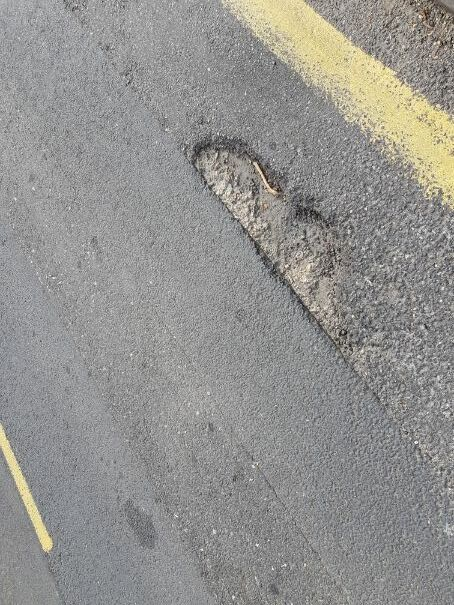pothole: (187, 128, 356, 361)
